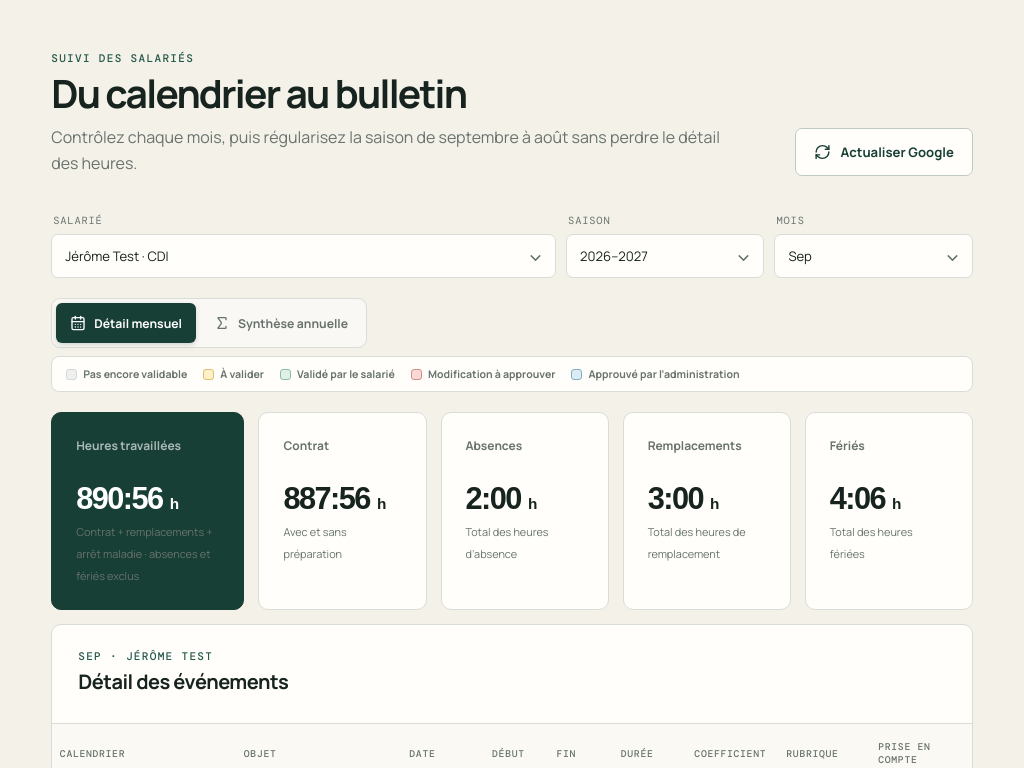
Test: TimeTrackingPage › refreshes the tracking data after a manual Google synchronization
Click the button "Actualiser Google" at (884, 152), box [795, 128, 973, 176]
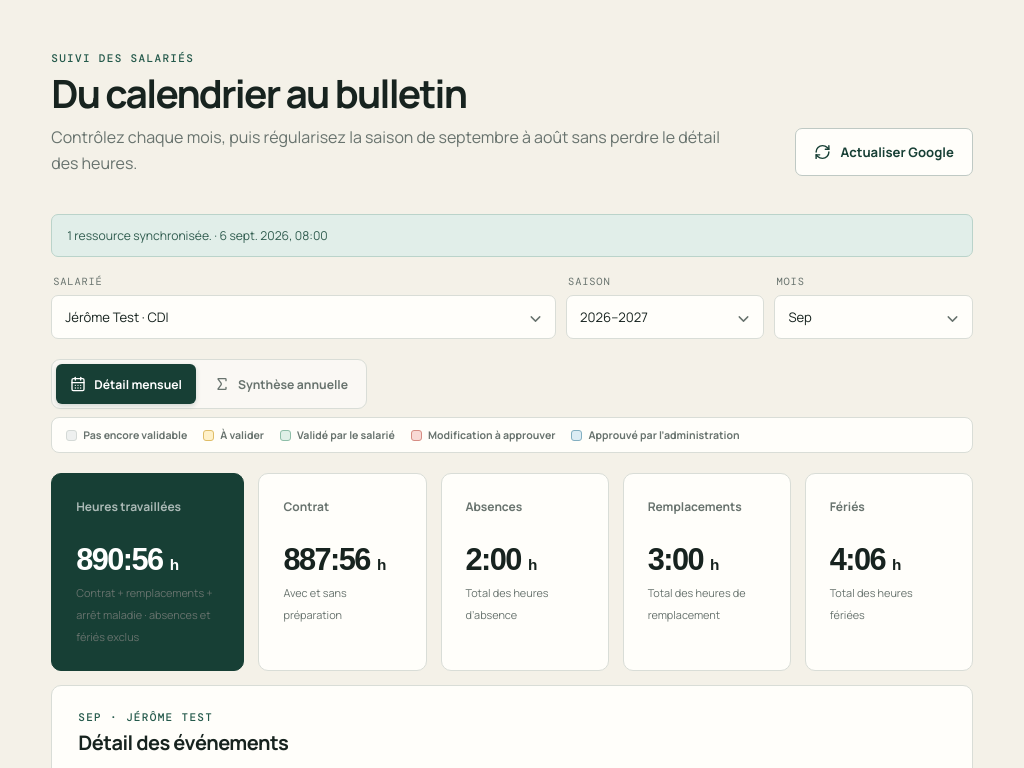
Now the text "1 ressource synchronisée." is shown, box [67, 227, 212, 244]
